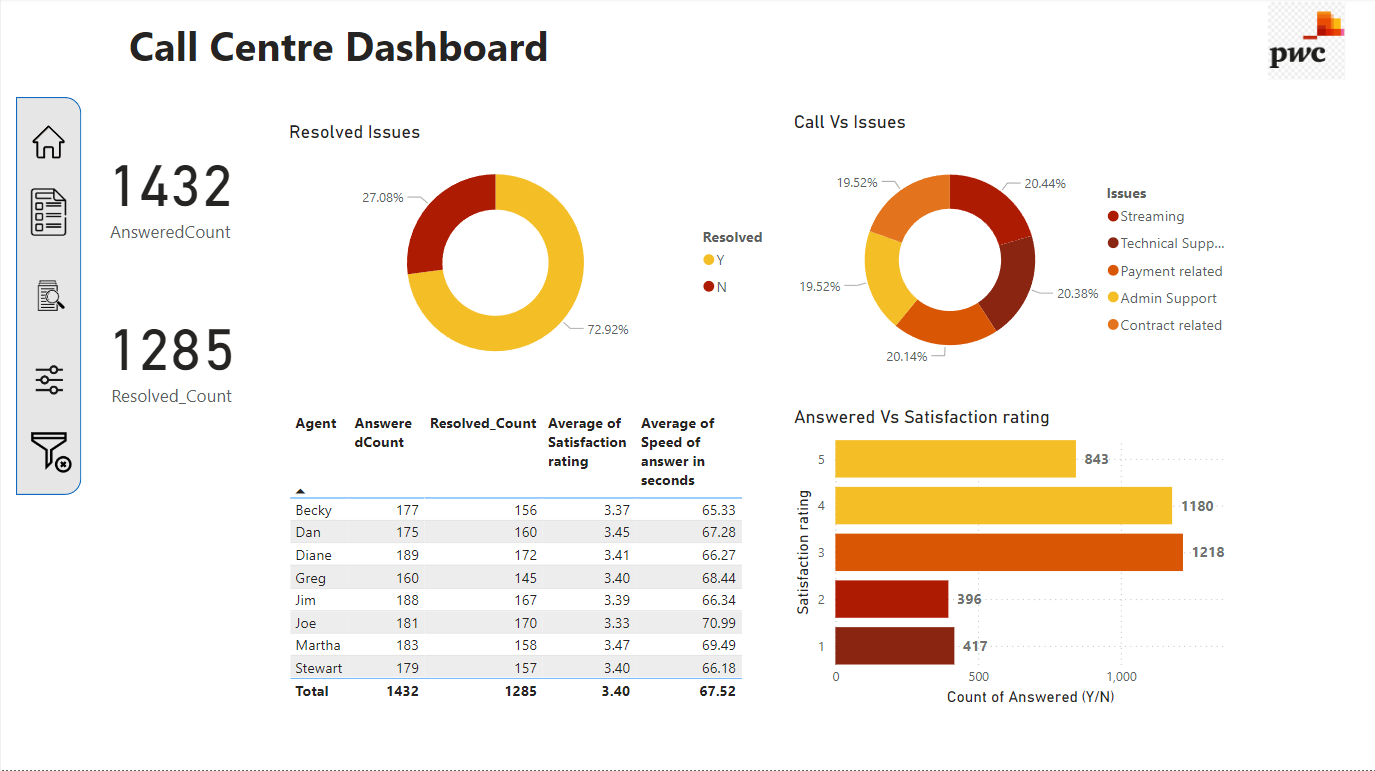

This screenshot's page, from the dashboard's own definition file:
{"tool":"powerbi","page":{"name":"Page 2","canvas":[1280,720],"ordinal":1},"visuals":[{"type":"tableEx","fields":{"Values":["CallData.Agent","CallData.Answered","CallData.Resolved_Count","Avg(CallData.Satisfaction rating)","Avg(CallData.Speed of answer in seconds)"]},"box":[141.2,380,498.8,316.2],"z":0},{"type":"donutChart","title":"Count of Resolved Issues","fields":{"Category":["CallData.Resolved"],"Y":["CountNonNull(CallData.Resolved)"]},"box":[141.2,47.5,472.5,312.5],"z":1000},{"type":"clusteredBarChart","fields":{"Category":["CallData.Satisfaction rating"],"Y":["CountNonNull(CallData.Answered (Y/N))"]},"box":[640,380,518.8,283.8],"z":2000},{"type":"donutChart","title":"Count of Call Vs Issues ","fields":{"Category":["CallData.Topic"],"Y":["CountNonNull(CallData.Call Id.1)"]},"box":[640,47.5,518.8,312.5],"z":3000}]}

Visuals, with their boxes on the page's 1280x720 design canvas (x1, y1, x2, y2). These are canvas units, not pixel positions in the 1375x771 screenshot, which may show the page scaled, cropped or inside an application window:
tableEx - CallData.Agent x CallData.Answered: region(141, 380, 640, 696)
"Count of Resolved Issues" donutChart: region(141, 48, 614, 360)
clusteredBarChart - CallData.Satisfaction rating x CountNonNull(CallData.Answered (Y/N)): region(640, 380, 1159, 664)
"Count of Call Vs Issues " donutChart: region(640, 48, 1159, 360)
